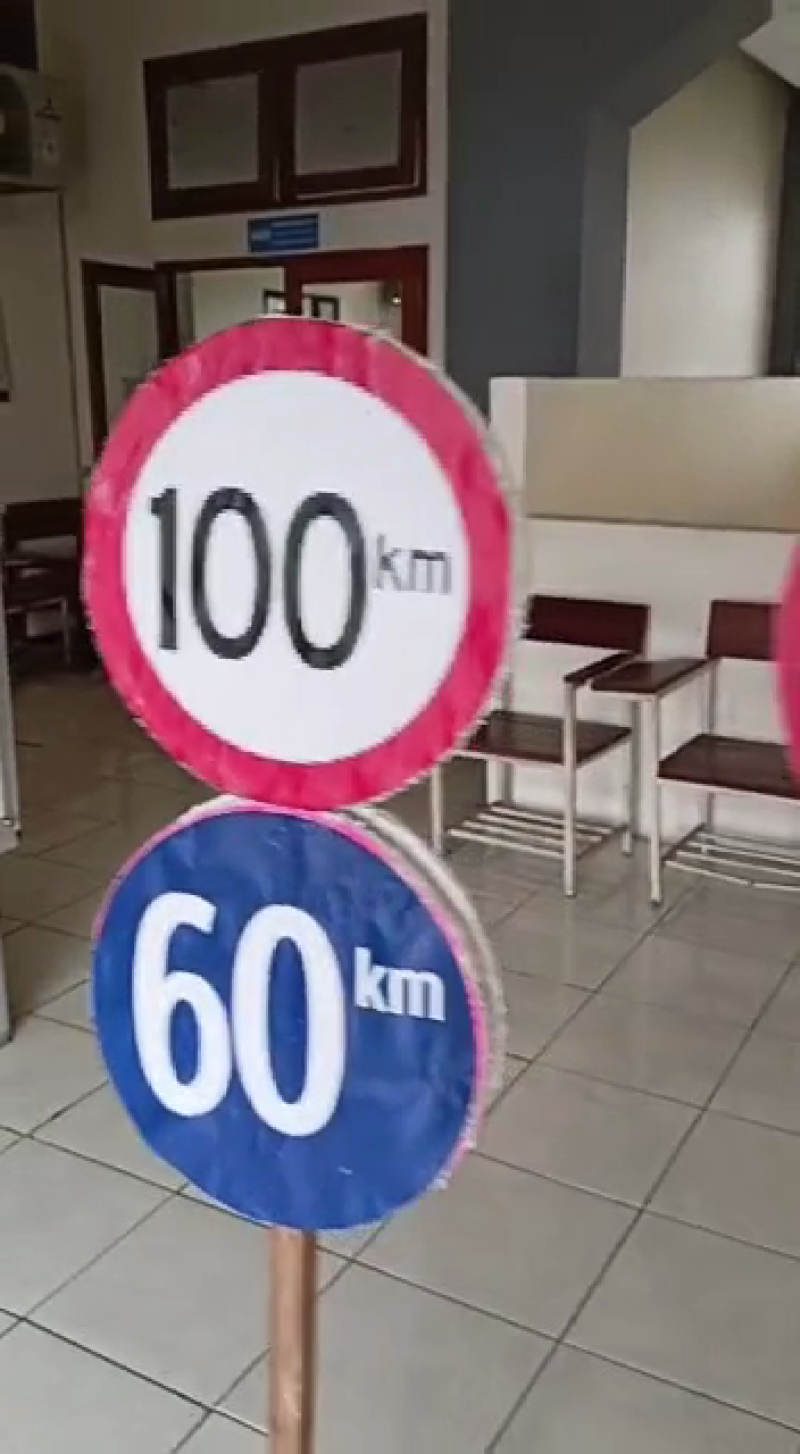batas maksimal 100kmperjam minimal 60kmperjam: (68, 299, 526, 1251)
